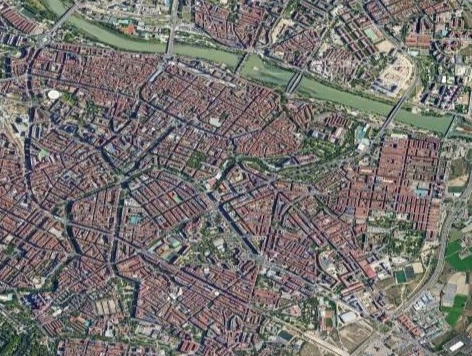bridge: (56, 3, 83, 27), (157, 32, 184, 56), (231, 50, 253, 73), (283, 69, 305, 92), (383, 99, 405, 122), (439, 113, 461, 136)
